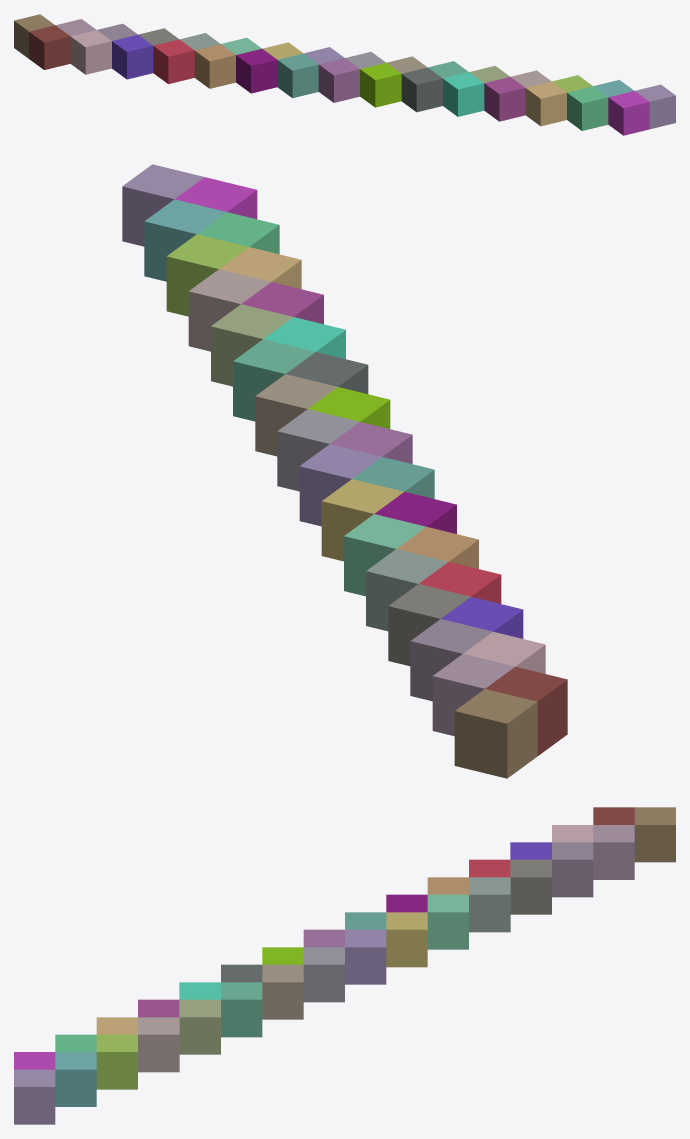
3 renders of one model, top to bottom at view 1: azimuth 30°, elevation 25°; view 2: azimuth 150°, elevation 25°; view 3: azimuth 270°, elevation 25°, orthographic. The views are drawn at different scales.
Visible parts, largest first — view 1: voxel_lod_2; view 2: voxel_lod_2; view 3: voxel_lod_2.
Part boxes in pixels (x1,y1,x2,y2): voxel_lod_2: (14,14,675,135); voxel_lod_2: (122,164,567,778); voxel_lod_2: (14,807,675,1124).
Bounding box in the file's own units: 32 × 2 × 32.
